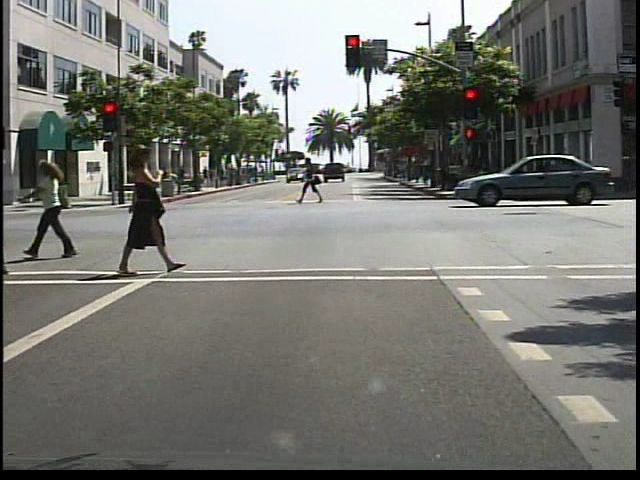person: (113, 136, 189, 276), (33, 157, 86, 264), (299, 156, 328, 206), (1, 146, 6, 283), (172, 163, 188, 192)
